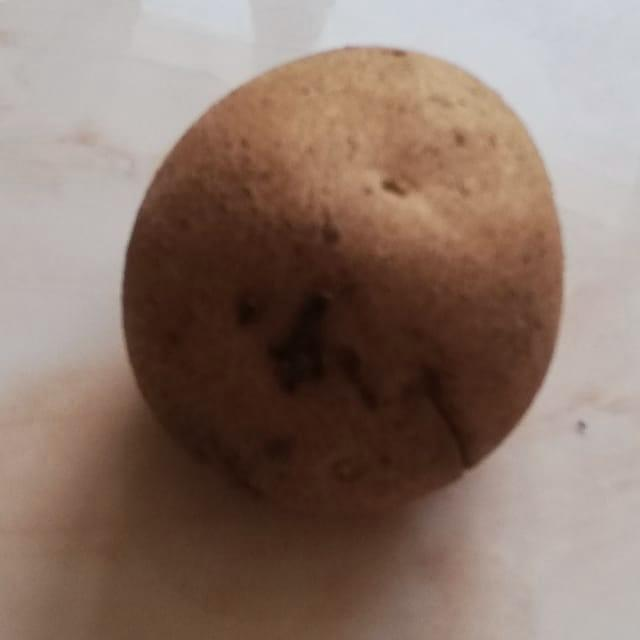potato: (108, 0, 571, 542)
